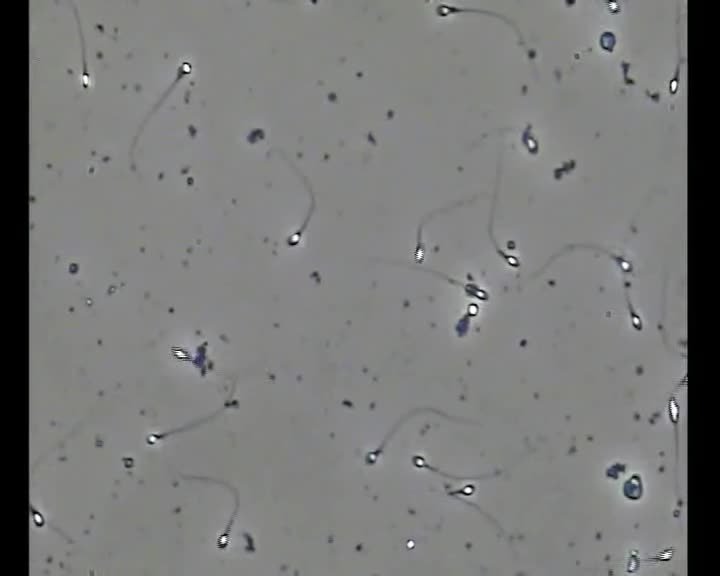spermhead: (623, 474, 643, 500), (522, 124, 538, 154), (463, 282, 487, 300), (606, 462, 626, 479), (665, 398, 678, 424), (455, 313, 469, 337), (599, 32, 615, 52), (625, 551, 640, 572), (667, 67, 678, 95), (435, 3, 456, 17), (31, 507, 46, 526), (616, 256, 632, 273), (502, 253, 519, 269), (177, 59, 192, 77), (243, 531, 255, 553), (410, 243, 423, 262), (646, 552, 668, 563), (365, 449, 380, 465), (599, 0, 615, 15), (631, 311, 643, 330), (287, 230, 301, 246), (175, 350, 192, 363), (145, 432, 162, 445), (645, 88, 660, 102), (459, 483, 475, 496), (218, 531, 230, 548), (466, 302, 479, 317), (80, 72, 92, 88), (413, 455, 427, 468), (674, 380, 687, 394), (620, 60, 630, 78), (563, 159, 576, 172), (553, 167, 564, 179), (223, 399, 238, 407), (196, 340, 208, 350), (506, 240, 516, 251), (407, 538, 415, 549), (86, 297, 93, 308)
